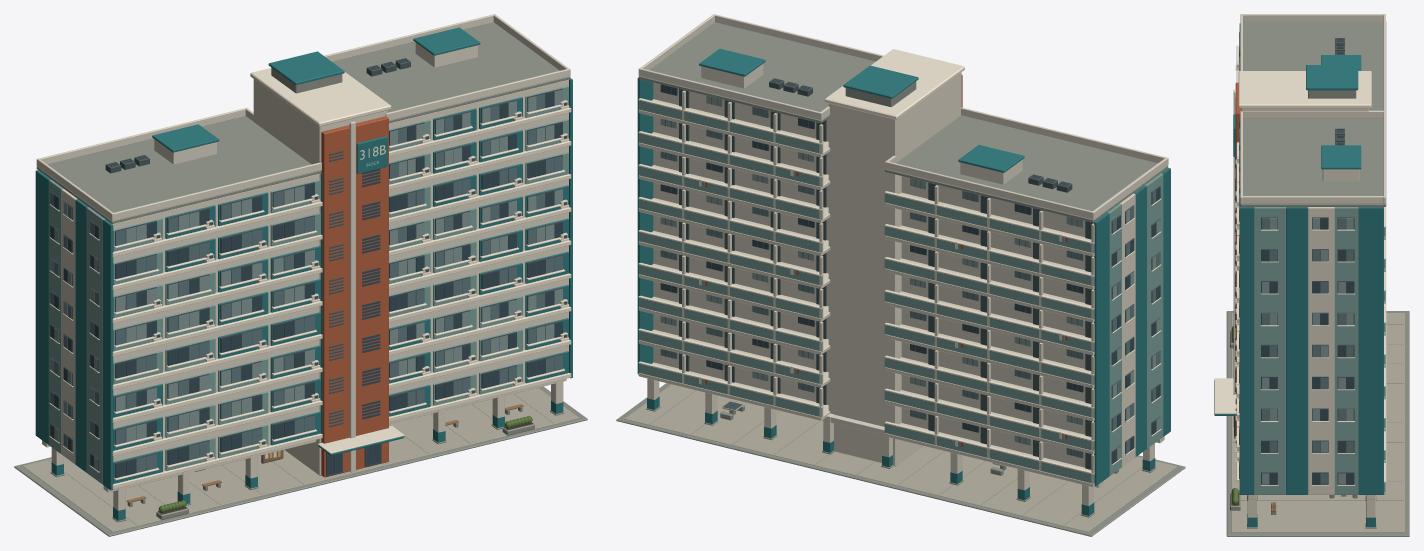
3 renders of one model, left to right at view 1: azimuth 30°, elevation 25°; view 2: azimuth 150°, elevation 25°; view 3: azimuth 270°, elevation 25°, orthographic. The views are drawn at different scales.
Visible parts, largest first — view 1: Apartment Fronts, Roof Parapets and Plant, Lift and Stair Core, Footing and Void Deck, Community Fixtures, Block Identification; view 2: Access Galleries, Apartment Fronts, Roof Parapets and Plant, Footing and Void Deck, Lift and Stair Core; view 3: Apartment Fronts, Roof Parapets and Plant, Footing and Void Deck, Lift and Stair Core, Access Galleries, Community Fixtures.
Part boxes in pixels (box(x1,y1,x2,y2)): Apartment Fronts: box(35, 78, 572, 490); Roof Parapets and Plant: box(36, 14, 570, 223); Lift and Stair Core: box(253, 79, 404, 477); Footing and Void Deck: box(14, 378, 587, 536); Community Fixtures: box(126, 404, 534, 519); Block Identification: box(356, 136, 387, 173); Access Galleries: box(638, 84, 1094, 487); Apartment Fronts: box(637, 77, 1170, 485); Roof Parapets and Plant: box(638, 14, 1168, 222); Footing and Void Deck: box(616, 378, 1185, 536); Lift and Stair Core: box(828, 72, 962, 466); Apartment Fronts: box(1235, 23, 1383, 494); Roof Parapets and Plant: box(1238, 14, 1386, 206); Footing and Void Deck: box(1226, 311, 1409, 536); Lift and Stair Core: box(1214, 82, 1369, 443); Access Galleries: box(1384, 206, 1386, 494); Community Fixtures: box(1230, 326, 1357, 514).
Size of the model in its own units: 46 by 33.8 by 16.88.
